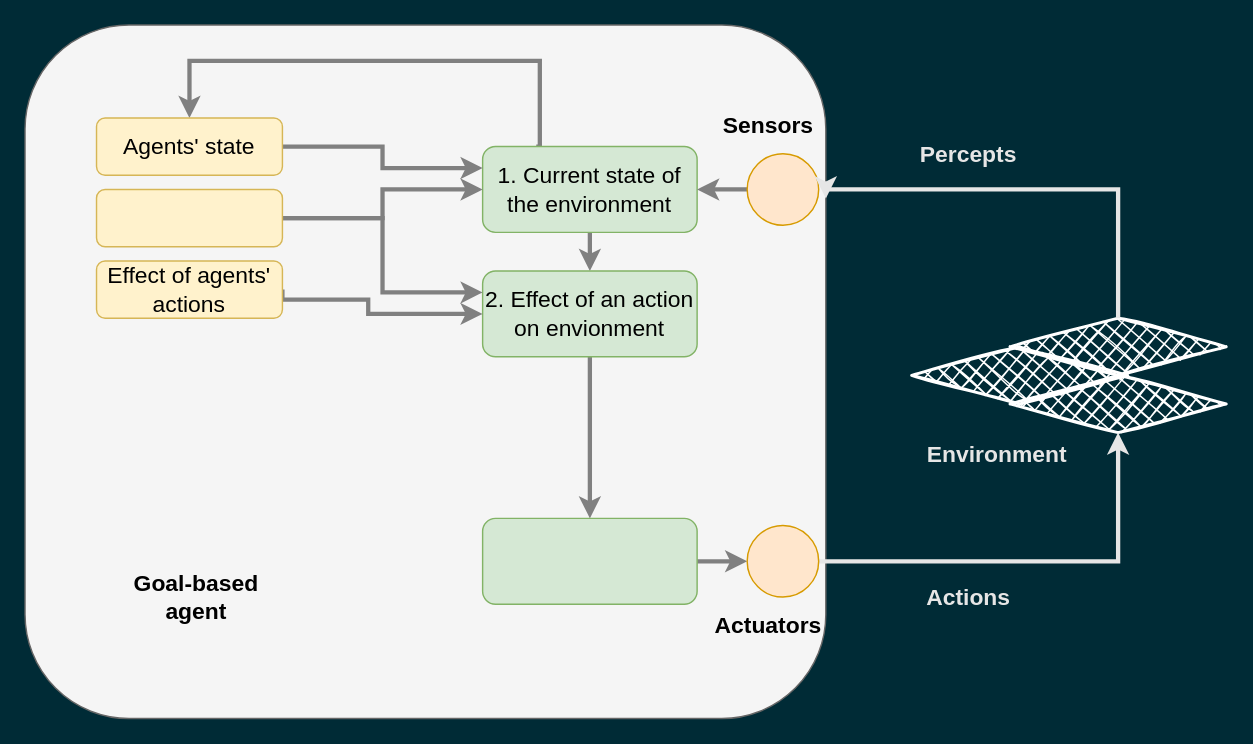
This 1253x744 diagram has some shape labels left out. The shapes that lost their labels are listed below. From the top down, each one's box as (x1, y1, x2, y2) in pixels, then its label:
(95, 188, 282, 247): Environment evolution
(481, 517, 697, 604): 4. What action to be taken
